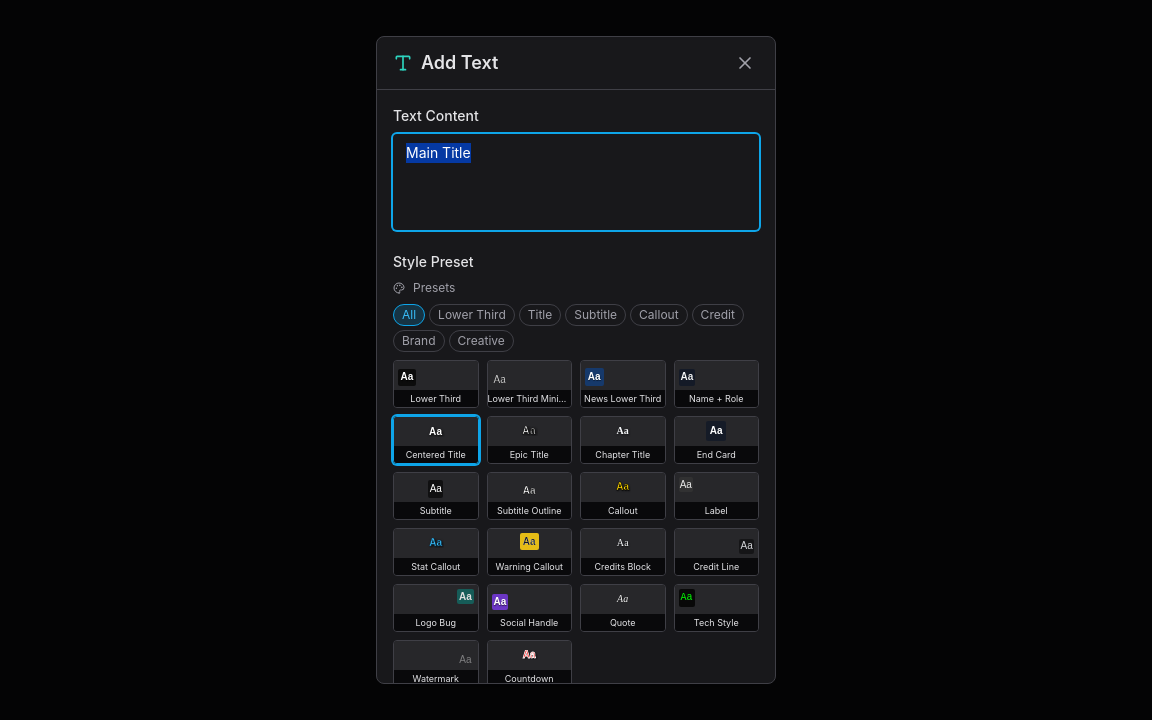
it: AddTextDialog › interactions › should disable Add button when text content is empty
Clear the text box labelled "Text Content": (576, 182) [393, 134, 759, 230]
(page scrolled)
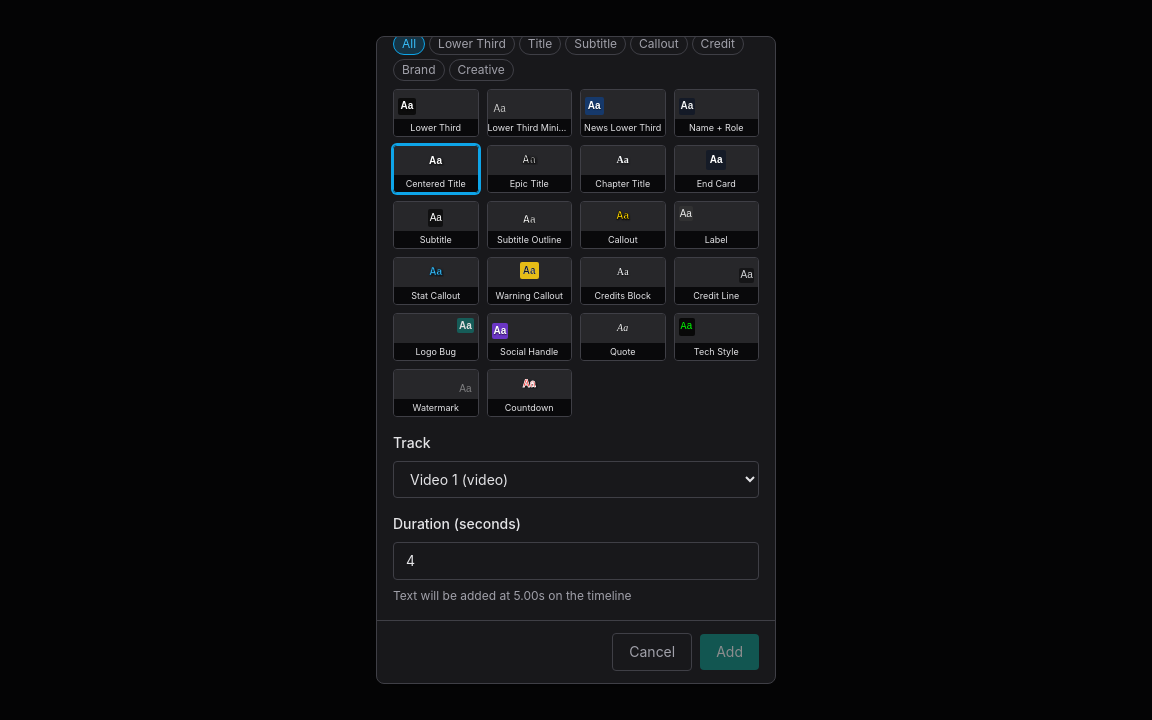
Now the button "Add" is disabled, box [700, 634, 759, 670]
